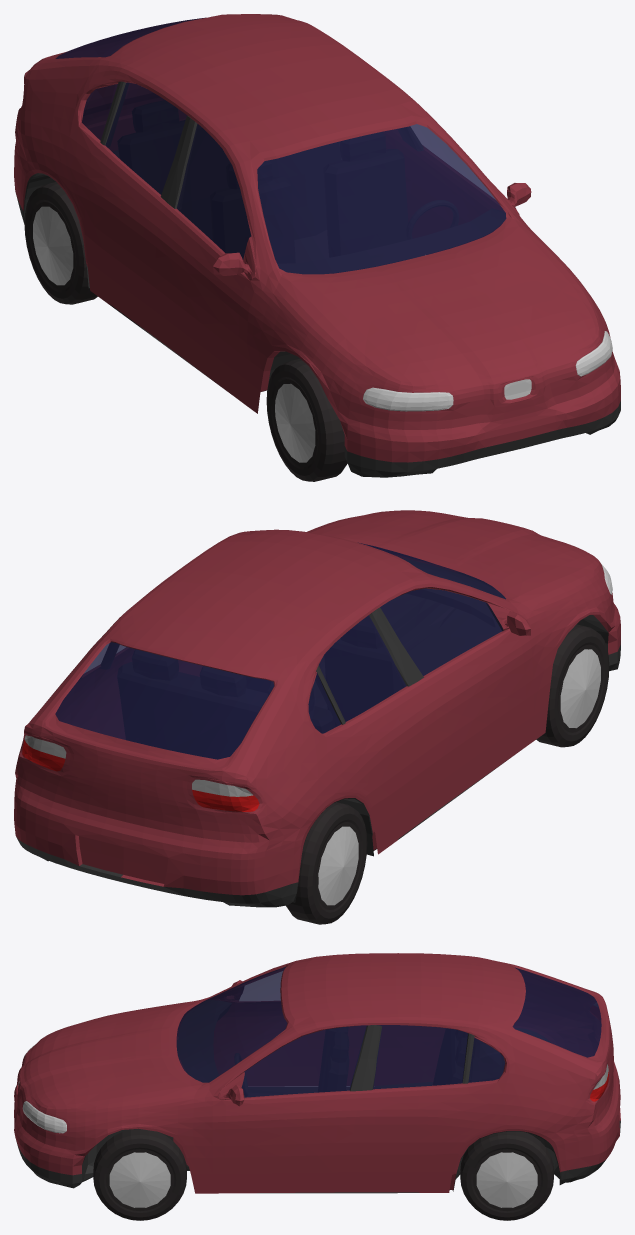
The model's file is seat_leon.obj.
The picture shows the model from 3 angles, top to bottom: view 1: azimuth 30°, elevation 25°; view 2: azimuth 150°, elevation 25°; view 3: azimuth 270°, elevation 25°; orthographic projection. The views are drawn at different scales.
Visible parts, largest first — view 1: car_Plane_chapa_roja, car_Plane_cristales, car_Plane_asientos, car_Plane_plastico_negro, car_Plane_neumaticos, car_Plane_llantas, car_Plane_faros_blancos_faro1_leon.jpg; view 2: car_Plane_chapa_roja, car_Plane_cristales, car_Plane_asientos, car_Plane_plastico_negro, car_Plane_neumaticos, car_Plane_llantas, car_Plane_faros_rojos, car_Plane_faros_blan_back; view 3: car_Plane_chapa_roja, car_Plane_cristales, car_Plane_plastico_negro, car_Plane_neumaticos, car_Plane_llantas, car_Plane_asientos, car_Plane_faros_blancos_faro1_leon.jpg.
Part boxes in pixels (box(x1,y1,x2,y2)): car_Plane_chapa_roja: box(14, 14, 620, 462); car_Plane_cristales: box(55, 17, 506, 274); car_Plane_asientos: box(118, 100, 407, 263); car_Plane_plastico_negro: box(16, 81, 620, 477); car_Plane_neumaticos: box(24, 182, 347, 481); car_Plane_llantas: box(33, 206, 315, 462); car_Plane_faros_blancos_faro1_leon.jpg: box(363, 331, 612, 411); car_Plane_chapa_roja: box(14, 510, 620, 895); car_Plane_cristales: box(55, 542, 505, 759); car_Plane_asientos: box(117, 617, 402, 758); car_Plane_plastico_negro: box(16, 558, 620, 907); car_Plane_neumaticos: box(286, 624, 609, 924); car_Plane_llantas: box(318, 649, 600, 905); car_Plane_faros_rojos: box(22, 739, 259, 811); car_Plane_faros_blan_back: box(24, 735, 253, 796); car_Plane_chapa_roja: box(14, 953, 620, 1193); car_Plane_cristales: box(176, 967, 601, 1097); car_Plane_plastico_negro: box(16, 1000, 620, 1193); car_Plane_neumaticos: box(93, 1129, 553, 1220); car_Plane_llantas: box(109, 1152, 537, 1207); car_Plane_asientos: box(318, 1027, 474, 1091); car_Plane_faros_blancos_faro1_leon.jpg: box(22, 1044, 66, 1133).
Bounding box in the file's own units: 2.27 × 1.72 × 4.95.
